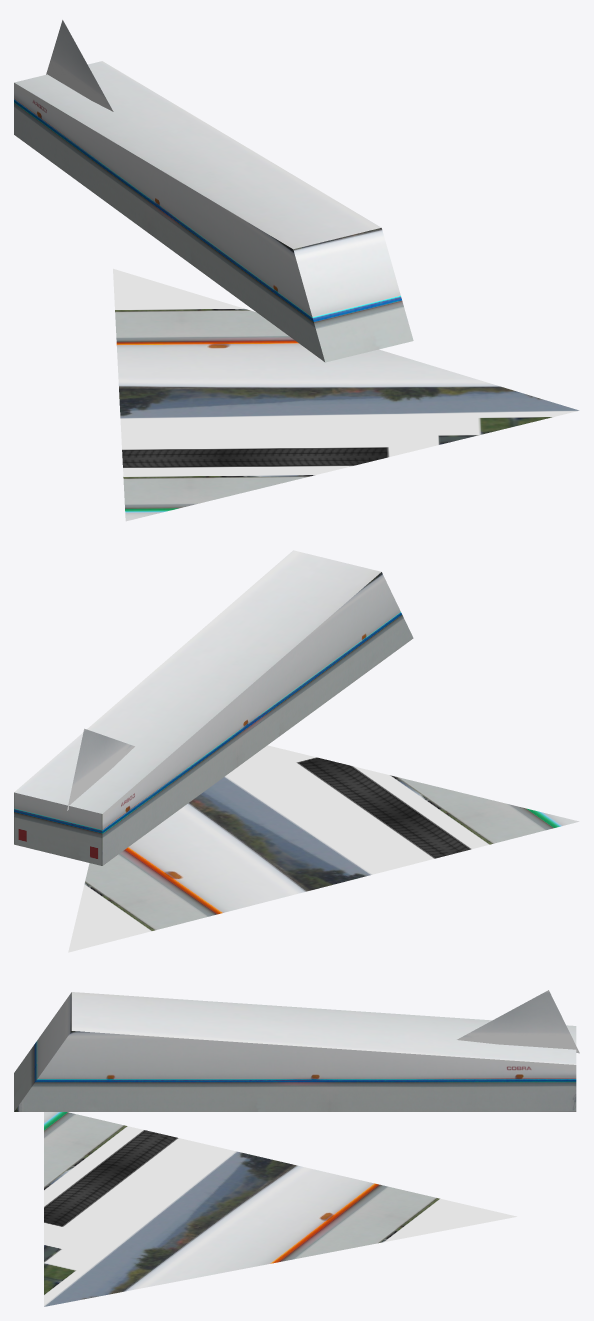
The model's file is glider-trailer-blue-9m-cbj_LOD04.gltf.
3 renders of one model, top to bottom at view 1: azimuth 30°, elevation 25°; view 2: azimuth 150°, elevation 25°; view 3: azimuth 270°, elevation 25°, orthographic. The views are drawn at different scales.
Parts seen in each view (by area): view 1: trailer04; view 2: trailer04; view 3: trailer04.
Boxes of the visible parts, left/top/right/bottom form: trailer04: left=14, top=20, right=579, bottom=521; trailer04: left=14, top=550, right=579, bottom=952; trailer04: left=14, top=990, right=579, bottom=1306.
Bounding box in the file's own units: 7 × 3.6 × 8.36.
